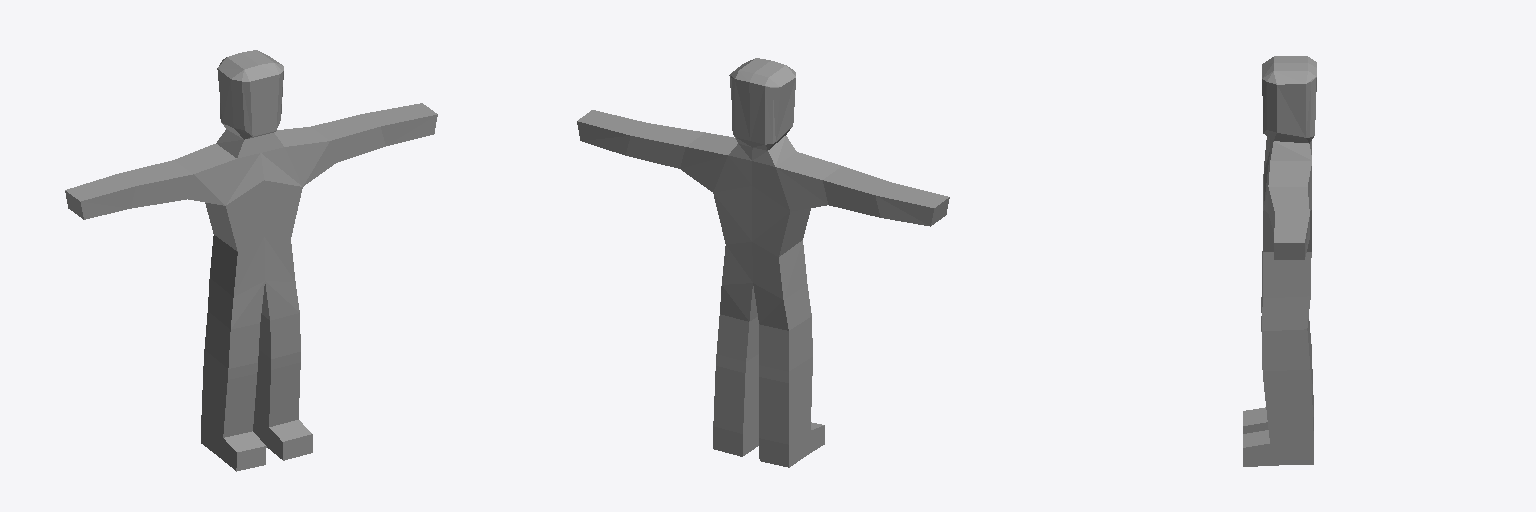
Rendered from man.obj.
3 views of the same model, side by side, from view 1: azimuth 30°, elevation 25°; view 2: azimuth 150°, elevation 25°; view 3: azimuth 270°, elevation 25° (orthographic).
Parts seen in each view (by area): view 1: Объект_Куб; view 2: Объект_Куб; view 3: Объект_Куб.
Part boxes in pixels (bbox=[...]): Объект_Куб: bbox=[65, 50, 437, 471]; Объект_Куб: bbox=[577, 58, 949, 467]; Объект_Куб: bbox=[1243, 56, 1316, 466].
Size of the model in its own units: 205 by 212 by 37.12.